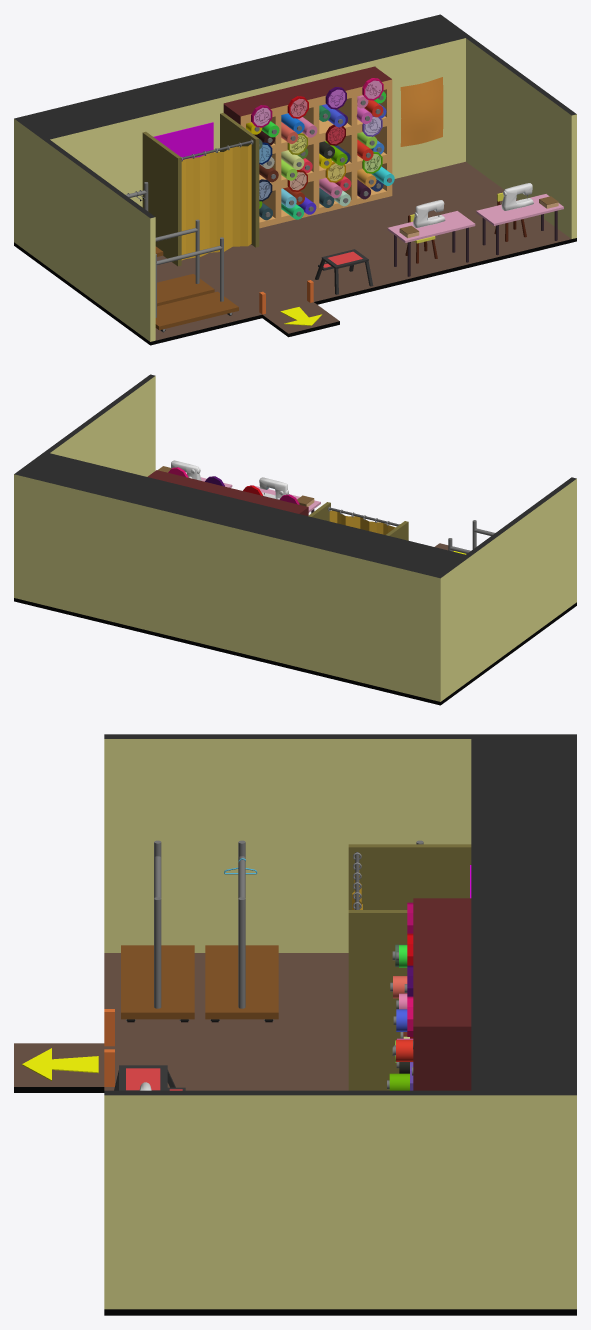
File: TallerVestuario.fbx
3 renders of one model, top to bottom at view 1: azimuth 30°, elevation 25°; view 2: azimuth 150°, elevation 25°; view 3: azimuth 270°, elevation 25°, orthographic. The views are drawn at different scales.
Visible parts, largest first — view 1: Paredes.002, PlataformaMovil.001, Estanteria, Cortina, ParedProbadorIzq, Cartel.001, Colgador.005, ParedProbadorDer, Colgador.004, Mesa.001, Mesa.003, Espejo (+4 smaller); view 2: Paredes.002, PlataformaMovil.001, Estanteria, Cortina; view 3: Paredes.002, PlataformaMovil.001, Estanteria, ParedProbadorDer, ParedProbadorIzq, Colgador.005, Colgador.004, Escalerilla, SalidaPasillo2, MarcoPuerta.001.
Part boxes in pixels (left/top/right/bottom): Paredes.002: left=14, top=14, right=576, bottom=341; PlataformaMovil.001: left=14, top=161, right=576, bottom=345; Estanteria: left=223, top=66, right=392, bottom=228; Cortina: left=181, top=144, right=251, bottom=260; ParedProbadorIzq: left=142, top=131, right=181, bottom=266; Cartel.001: left=400, top=77, right=443, bottom=146; Colgador.005: left=155, top=237, right=238, bottom=332; ParedProbadorDer: left=220, top=112, right=259, bottom=247; Colgador.004: left=155, top=219, right=214, bottom=306; Mesa.001: left=387, top=211, right=475, bottom=276; Mesa.003: left=476, top=194, right=563, bottom=255; Espejo: left=153, top=122, right=213, bottom=159; Paredes.002: left=14, top=374, right=576, bottom=701; PlataformaMovil.001: left=14, top=543, right=576, bottom=705; Estanteria: left=147, top=470, right=308, bottom=515; Cortina: left=329, top=510, right=395, bottom=534; Paredes.002: left=104, top=734, right=576, bottom=1309; PlataformaMovil.001: left=14, top=953, right=576, bottom=1315; Estanteria: left=413, top=898, right=471, bottom=1090; ParedProbadorDer: left=348, top=910, right=407, bottom=1090; ParedProbadorIzq: left=348, top=844, right=471, bottom=909; Colgador.005: left=121, top=840, right=194, bottom=1022; Colgador.004: left=205, top=840, right=278, bottom=1022; Escalerilla: left=114, top=1065, right=185, bottom=1090; SalidaPasillo2: left=22, top=1048, right=98, bottom=1080; MarcoPuerta.001: left=104, top=1009, right=114, bottom=1086.
Size of the model in its own units: 23591 by 6720 by 15560.
